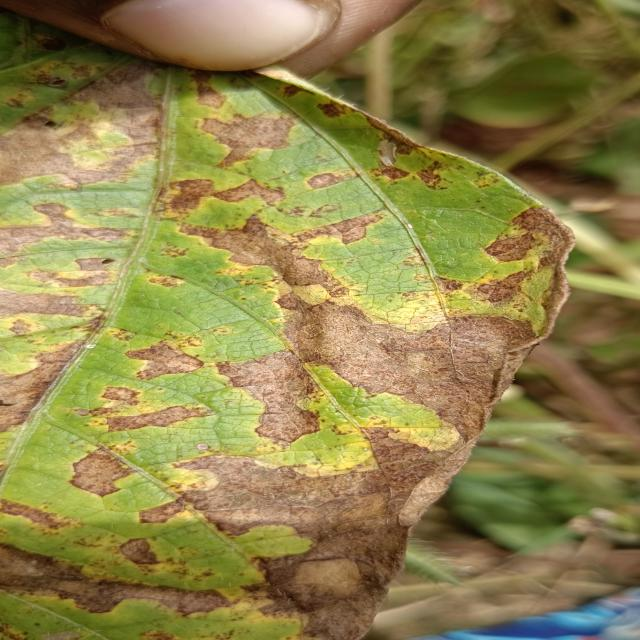Black gram_leaf spot: (0, 49, 598, 640)
